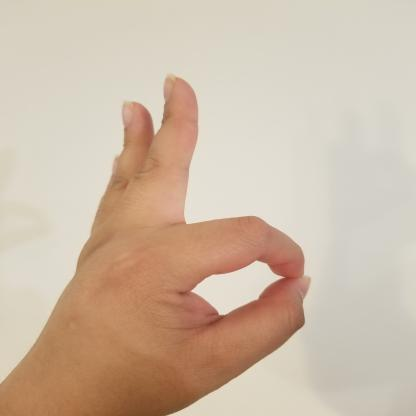F: (12, 67, 322, 416)
